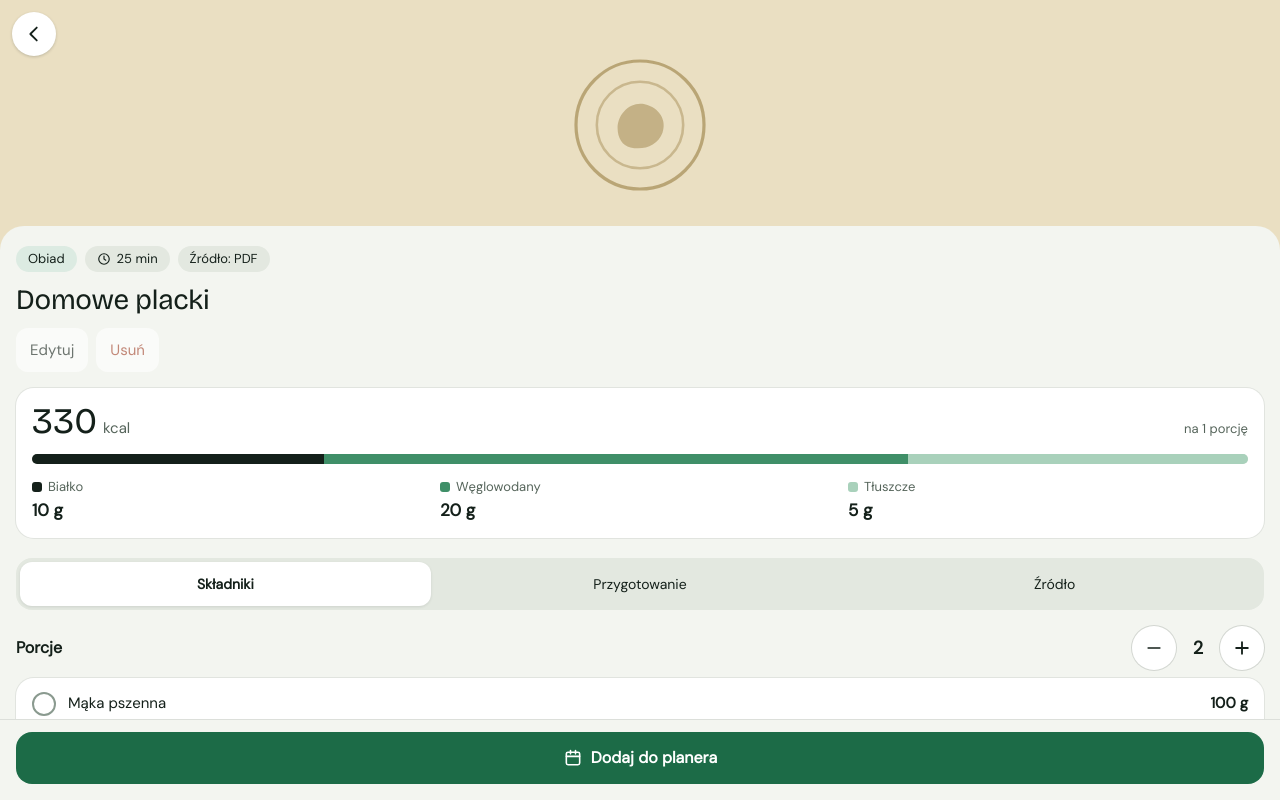
Test: PDF pokazuje nazwę, polską datę/rozmiar i bezpieczny link do zapisanego pliku
Click the tab "Źródło" at (1055, 584), box [849,562,1260,606]
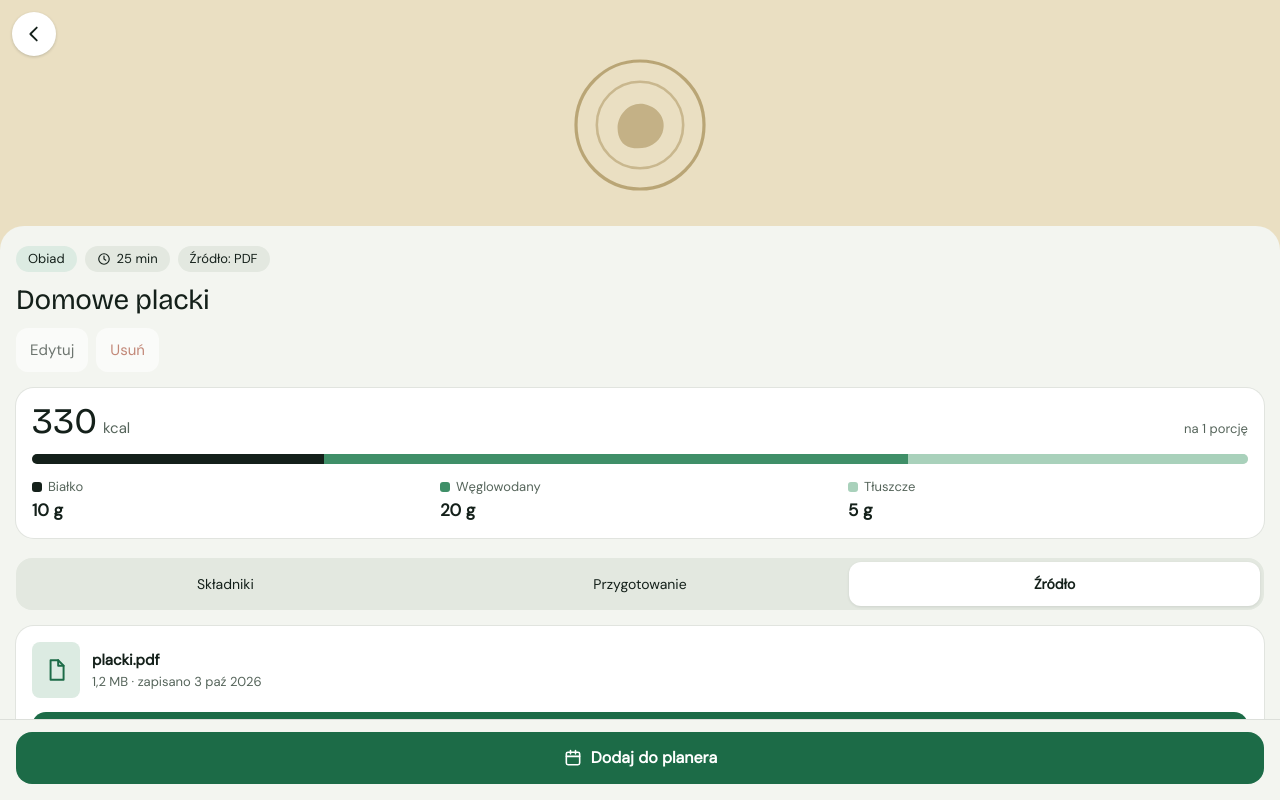
Check: the text "placki.pdf" is shown, box [92,650,160,670]
Check: the text "1,2 MB · zapisano 3 paź 2026" is shown, box [92,673,262,691]
